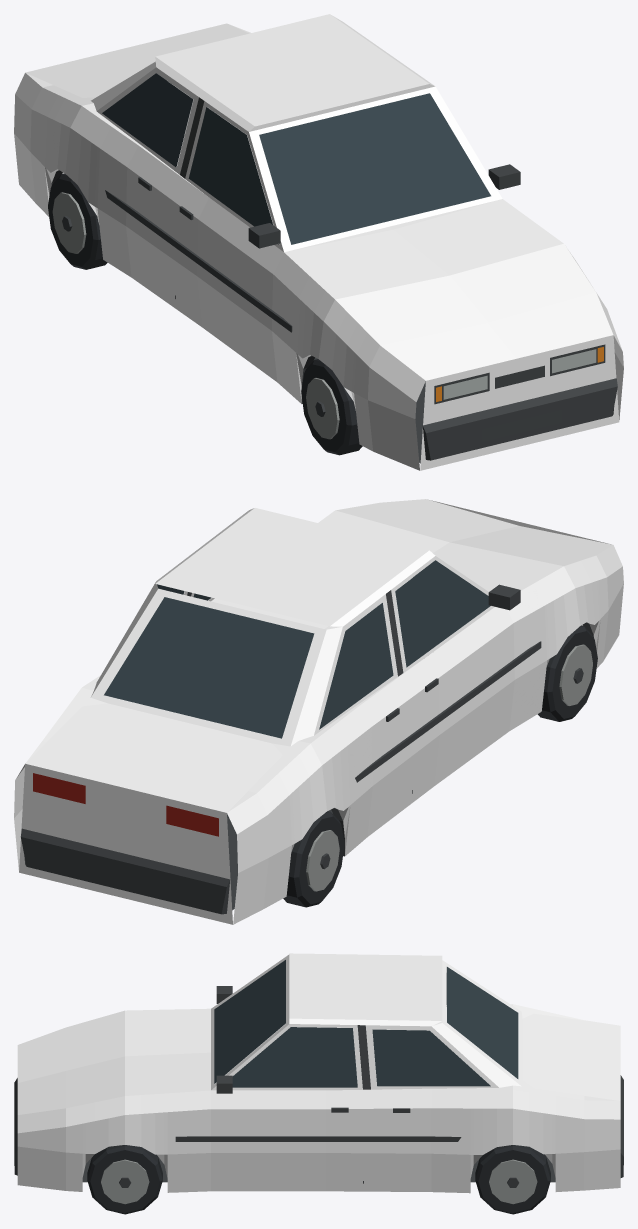
Rendered from hayase_momiji.glb.
3 renders of one model, top to bottom at view 1: azimuth 30°, elevation 25°; view 2: azimuth 150°, elevation 25°; view 3: azimuth 270°, elevation 25°, orthographic. The views are drawn at different scales.
Visible parts, largest first — view 1: hayase_momiji; view 2: hayase_momiji; view 3: hayase_momiji.
Part boxes in pixels (left/top/right/bottom): hayase_momiji: left=14, top=14, right=623, bottom=470; hayase_momiji: left=14, top=499, right=623, bottom=924; hayase_momiji: left=14, top=953, right=623, bottom=1214.
Size of the model in its own units: 1.71 by 1.49 by 4.51.
Materials: 8 (1 with a texture image).
